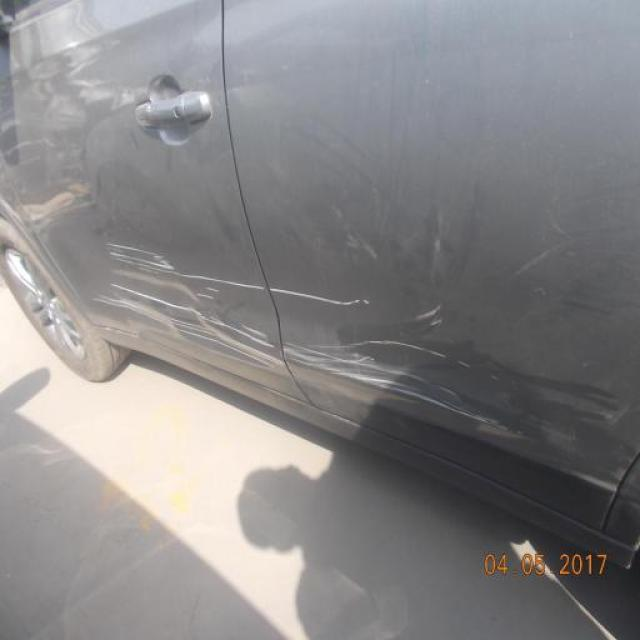scratch: (90, 281, 533, 437), (99, 242, 371, 312)
